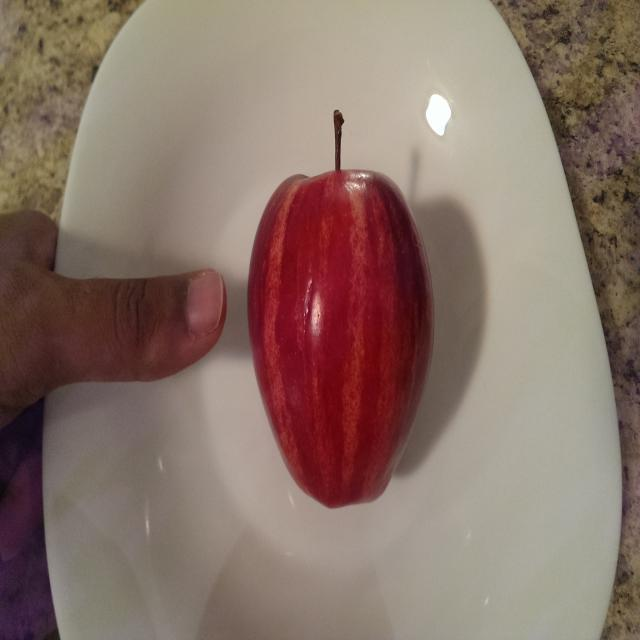Apple: (240, 98, 444, 514)
Finger: (107, 258, 232, 393)
